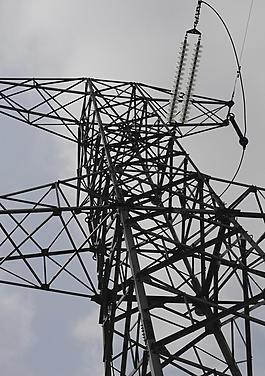power_tower: (0, 27, 265, 376)
